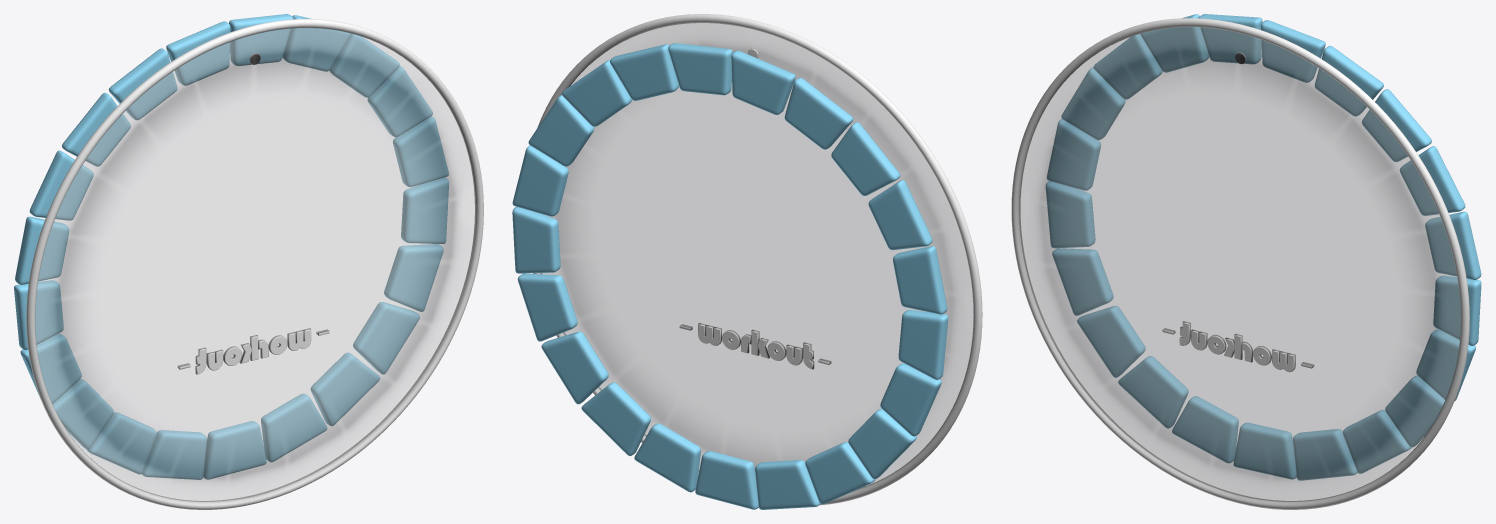
File: eyepop_squats_ui_2.glb
3 renders of one model, left to right at view 1: azimuth 30°, elevation 25°; view 2: azimuth 150°, elevation 25°; view 3: azimuth 330°, elevation 25°, orthographic.
Visible parts, largest first — view 1: bg, tick_13, tick_15, tick_12, tick_14, tick_16, tick_11, tick_17, tick_10, tick_18, tick_9, tick_19 (+10 smaller); view 2: bg, tick_1, tick_12, tick_15, tick_5, tick_13, tick_2, tick_4, tick_14, tick_3, tick_16, tick_6 (+10 smaller); view 3: bg, tick_7, tick_6, tick_9, tick_8, tick_10, tick_11, tick_5, tick_12, tick_4, tick_13, tick_3 (+10 smaller).
Part boxes in pixels (x1,y1,x2,y2): bg: (26,19,483,509); tick_13: (310,352,379,426); tick_15: (384,244,443,311); tick_12: (261,393,327,462); tick_14: (353,302,419,374); tick_16: (401,177,448,243); tick_11: (203,421,266,479); tick_17: (393,116,448,186); tick_10: (142,430,206,479); tick_18: (367,66,432,137); tick_9: (87,412,156,474); tick_19: (330,34,399,97); bg: (533,14,982,505); tick_1: (731,50,795,114); tick_12: (634,423,700,492); tick_15: (517,273,577,341); tick_5: (893,246,947,314); tick_13: (581,382,650,456); tick_2: (784,77,853,149); tick_4: (868,180,932,250); tick_14: (541,331,608,404); tick_3: (831,122,900,195); tick_16: (512,206,560,273); tick_6: (898,310,948,379); bg: (1011,18,1469,509); tick_7: (1052,248,1113,315); tick_6: (1045,181,1095,248); tick_9: (1118,356,1188,428); tick_8: (1077,305,1145,377); tick_10: (1172,396,1238,463); tick_11: (1233,422,1296,479); tick_5: (1046,119,1100,190); tick_12: (1293,429,1357,480); tick_4: (1061,67,1125,140); tick_13: (1343,410,1411,473); tick_3: (1093,34,1162,99).
Bounding box in the file's own units: 12.41 × 12.41 × 1.37.
2 materials, 1 textured.
